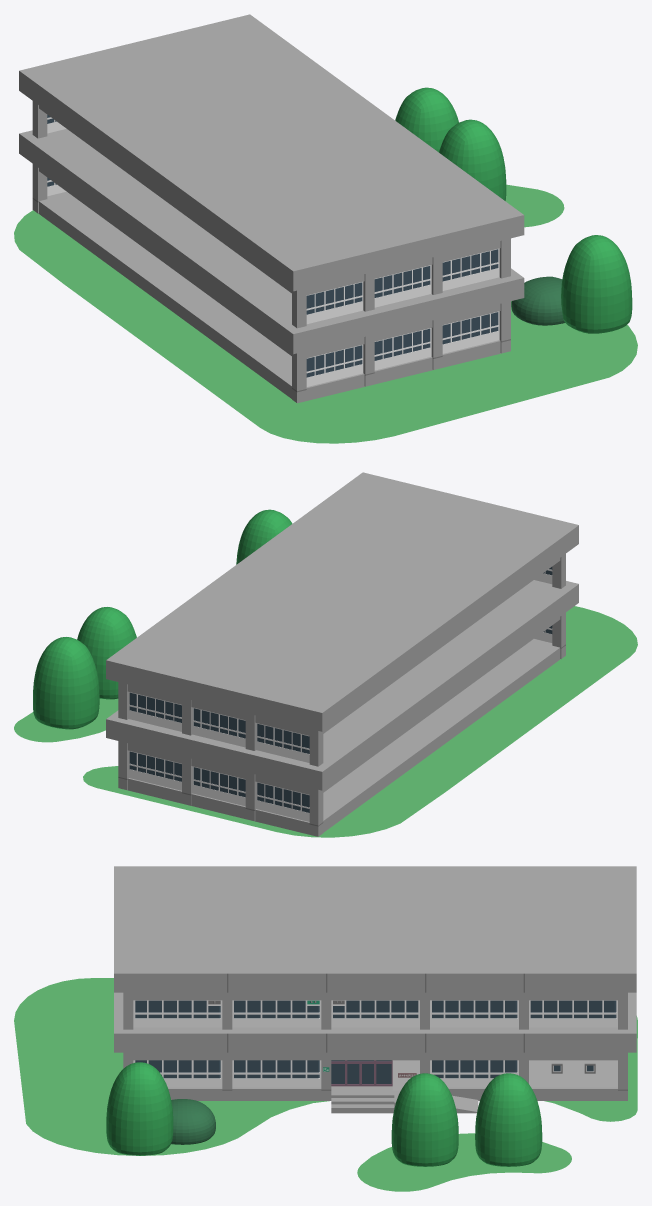
The model's file is Library_Exterior.fbx.
3 renders of one model, top to bottom at view 1: azimuth 30°, elevation 25°; view 2: azimuth 150°, elevation 25°; view 3: azimuth 270°, elevation 25°, orthographic. The views are drawn at different scales.
Parts seen in each view (by area): view 1: LibraryExterior, Grass1, Tree1, Tree2, Tree3, Bush, Grass2; view 2: LibraryExterior, Grass1, Tree3, Tree2, Grass2, Tree1; view 3: LibraryExterior, Grass1, Tree2, Tree1, Tree3, Grass2, Bush.
Part boxes in pixels (box(x1,y1,x2,y2)): LibraryExterior: box(19, 14, 524, 403); Grass1: box(14, 210, 637, 443); Tree1: box(561, 235, 632, 333); Tree2: box(439, 119, 506, 200); Tree3: box(395, 87, 458, 152); Bush: box(511, 276, 564, 325); Grass2: box(505, 184, 564, 227); LibraryExterior: box(106, 472, 578, 836); Grass1: box(83, 606, 637, 837); Tree3: box(33, 637, 99, 729); Tree2: box(77, 607, 136, 699); Grass2: box(14, 698, 118, 742); Tree1: box(236, 509, 292, 564); LibraryExterior: box(114, 866, 636, 1113); Grass1: box(14, 978, 637, 1155); Tree2: box(391, 1073, 458, 1166); Tree1: box(106, 1062, 173, 1155); Tree3: box(475, 1073, 542, 1166); Grass2: box(357, 1133, 571, 1191); Bush: box(171, 1099, 215, 1144).
Bounding box in the file's own units: 4791 × 1379 × 5908.
